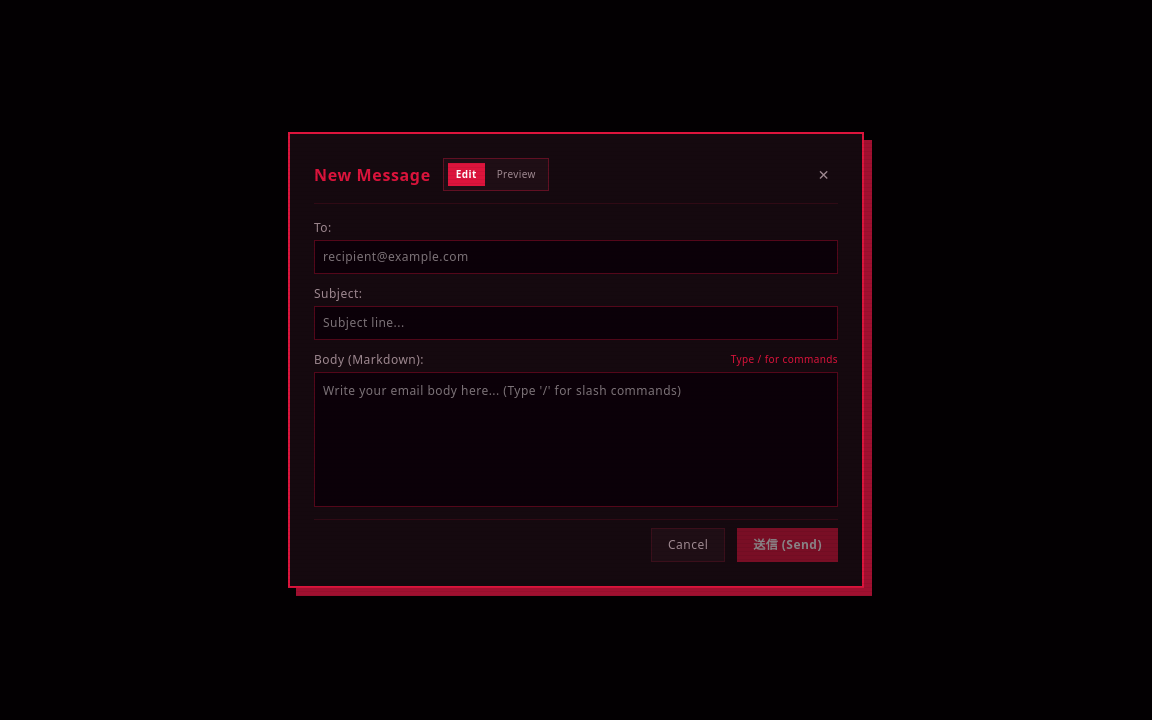
MailComposeModal Stress & Boundary Tests › 2. Caret Insertion & Slash Command Menu Across Multi-Line Documents › filters command list when typing /ai or /bold
Step 1. Type "/bold" into the text box with test id "compose-body-textarea" → (576, 440), box [314,372,838,507]
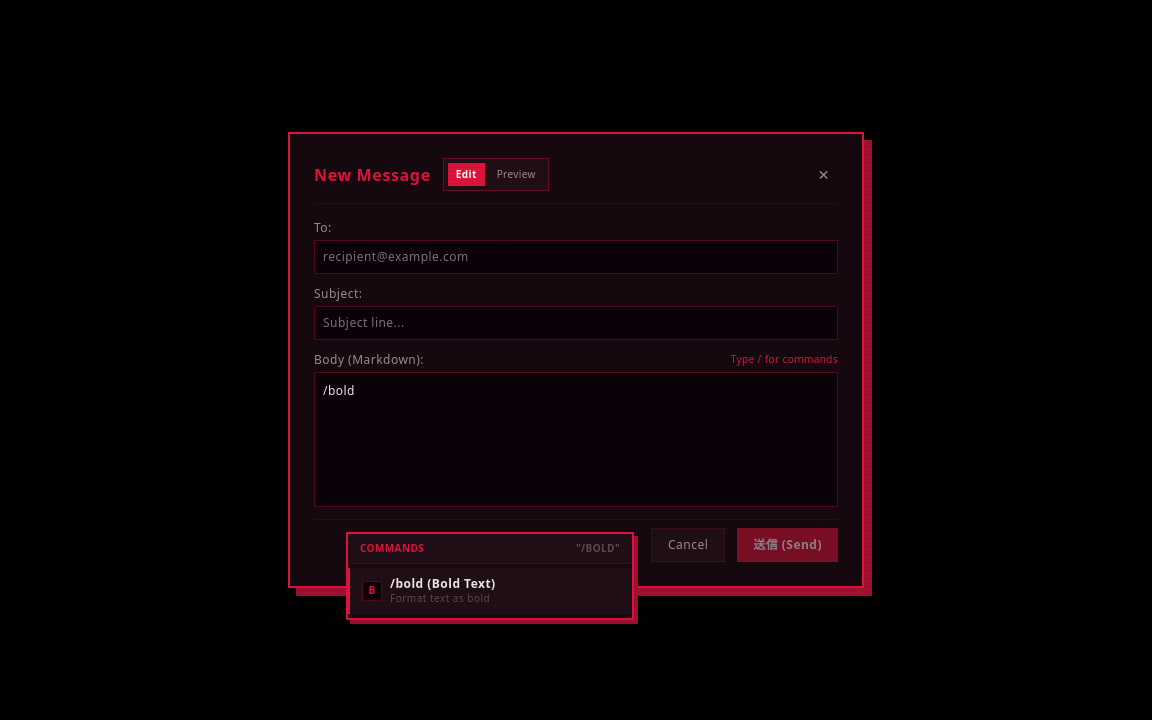
Check: the list with test id "slash-command-menu" is shown, box [346,532,634,620]
Check: the option with test id "slash-option-bold" is shown, box [348,568,632,614]
